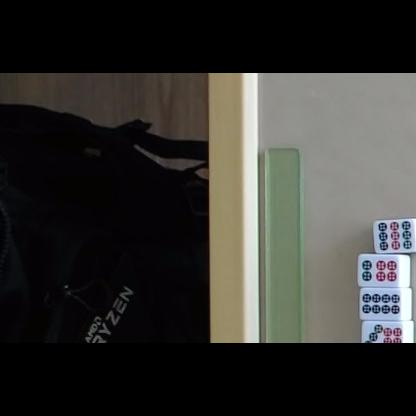6p: (361, 260, 397, 282)
7p: (363, 323, 403, 343)
8p: (361, 293, 400, 315)
9p: (378, 220, 412, 251)
